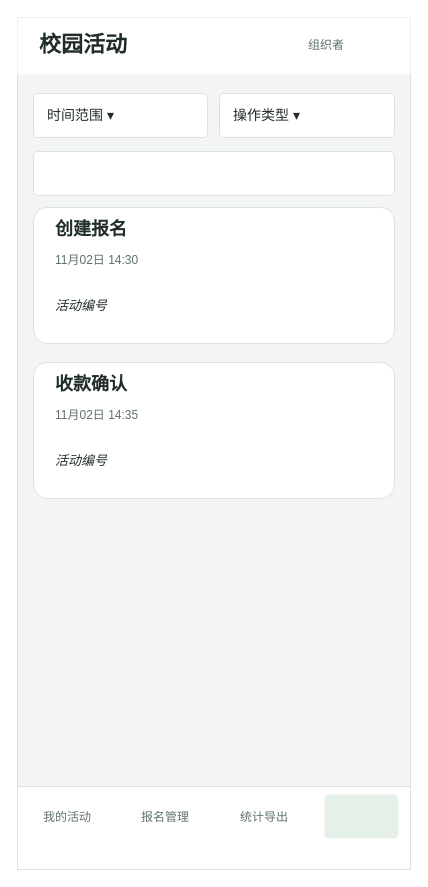
Image size: 428x887. Some labels were removed from this diagram. The centre of each missing label's shape, as x and y in pixels:
操作记录: [361,816]
活动：秋日草坪音乐会 ▾: [213,173]
